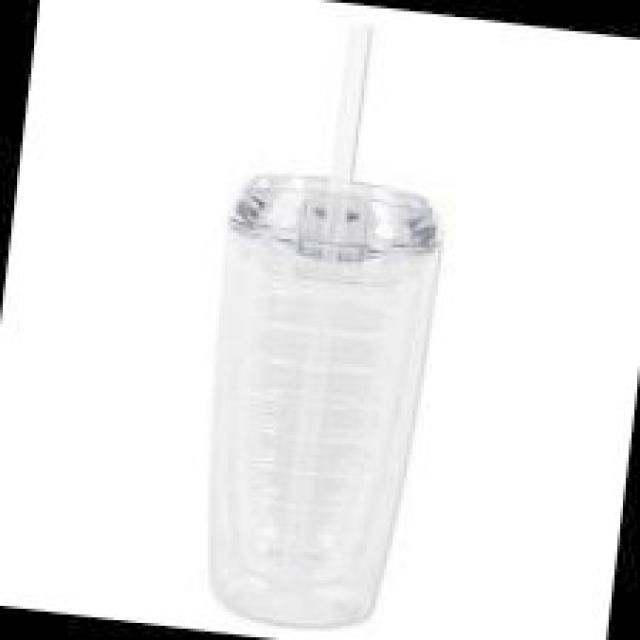bottle: (168, 0, 469, 640)
